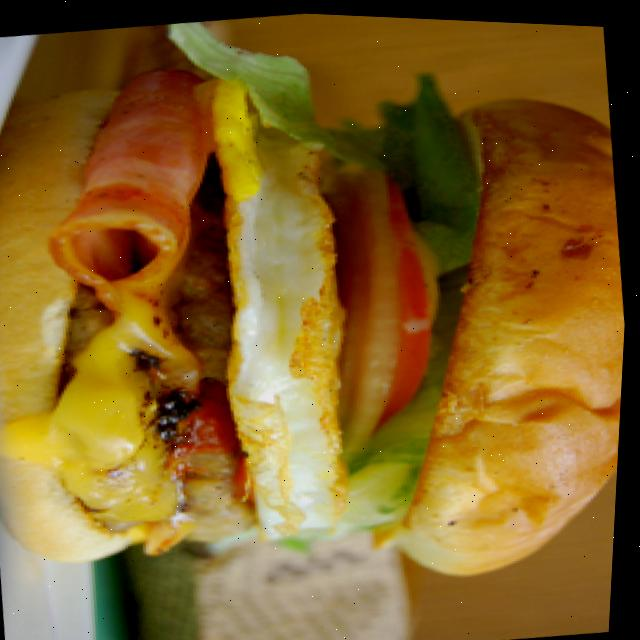汉堡快餐: (0, 4, 640, 636)
